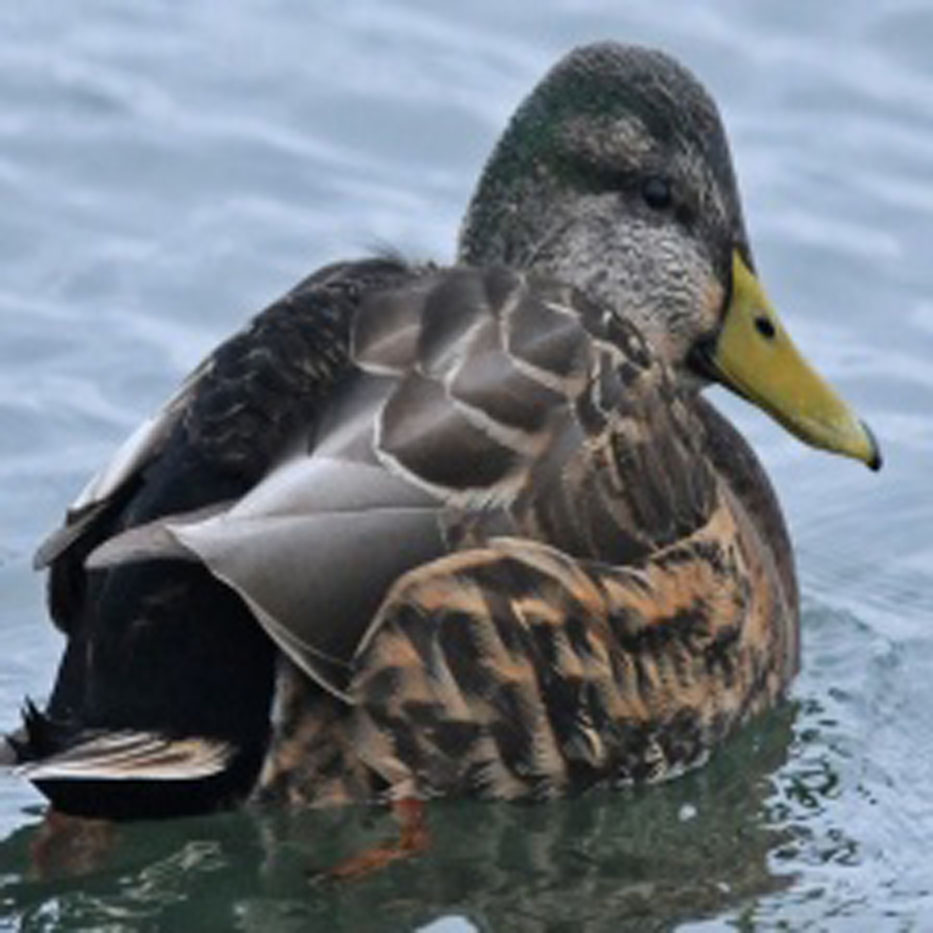Mencari Makan di Lumpur: (706, 247, 903, 494)
